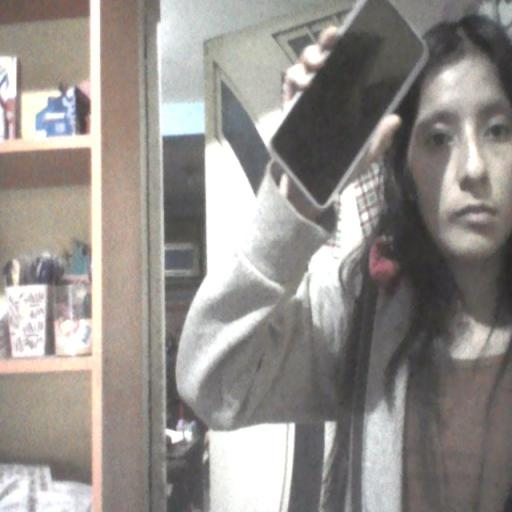phone: (268, 0, 428, 213)
